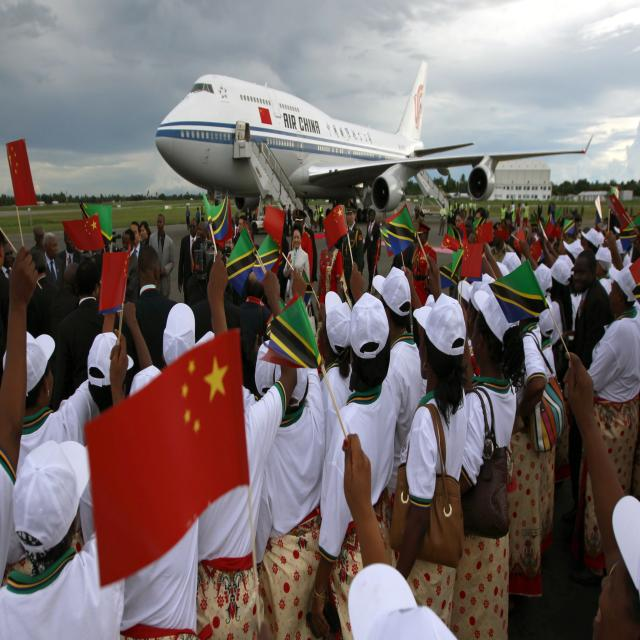body: (0, 324, 130, 640), (0, 339, 129, 640), (195, 269, 298, 639), (308, 259, 401, 640), (92, 362, 210, 640), (388, 295, 468, 633), (253, 266, 325, 638), (449, 289, 521, 640), (339, 430, 460, 637), (558, 344, 639, 640), (580, 229, 640, 587), (506, 315, 569, 640), (1, 234, 37, 577), (372, 264, 422, 502), (489, 219, 640, 285), (123, 244, 180, 397), (161, 246, 230, 369), (53, 257, 106, 415), (86, 300, 154, 416), (314, 290, 356, 460), (571, 247, 612, 372), (236, 269, 274, 403), (534, 285, 572, 396), (26, 243, 67, 338), (410, 221, 438, 351), (186, 237, 234, 308), (456, 208, 490, 286), (341, 200, 365, 310), (148, 212, 175, 300), (315, 241, 343, 321), (283, 221, 311, 301), (361, 207, 382, 296), (291, 208, 314, 289), (41, 231, 65, 308), (178, 217, 198, 306), (54, 227, 82, 278), (122, 228, 139, 305), (298, 222, 314, 291), (60, 261, 84, 300), (280, 232, 290, 308), (29, 226, 46, 266), (412, 203, 425, 249), (129, 220, 143, 259), (139, 220, 152, 247), (438, 202, 447, 236), (316, 202, 324, 234), (286, 204, 294, 236), (196, 220, 208, 241), (500, 202, 508, 233), (522, 202, 530, 228), (548, 199, 557, 220), (313, 204, 319, 234), (447, 200, 453, 224), (245, 204, 252, 224), (537, 200, 543, 218), (468, 199, 473, 219), (186, 206, 190, 230), (472, 201, 477, 218), (196, 206, 200, 226), (200, 206, 205, 222), (487, 200, 490, 219), (464, 201, 467, 218), (283, 204, 287, 214), (461, 201, 464, 212)
